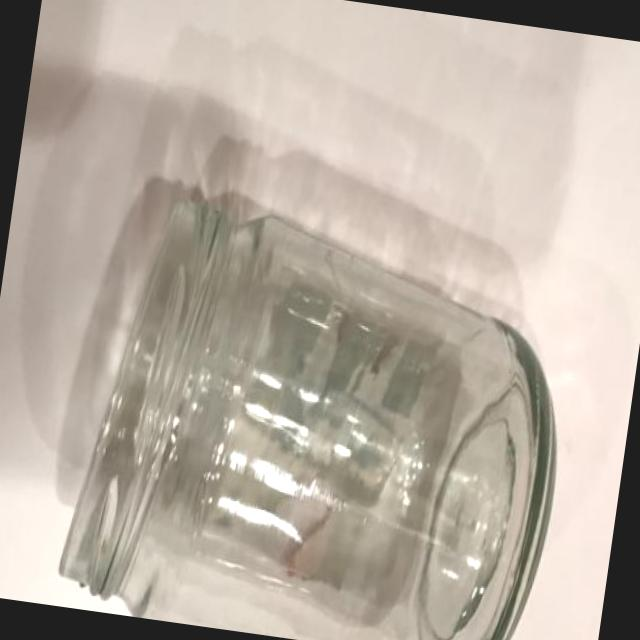chai_thuy_tinh: (58, 193, 556, 640)
